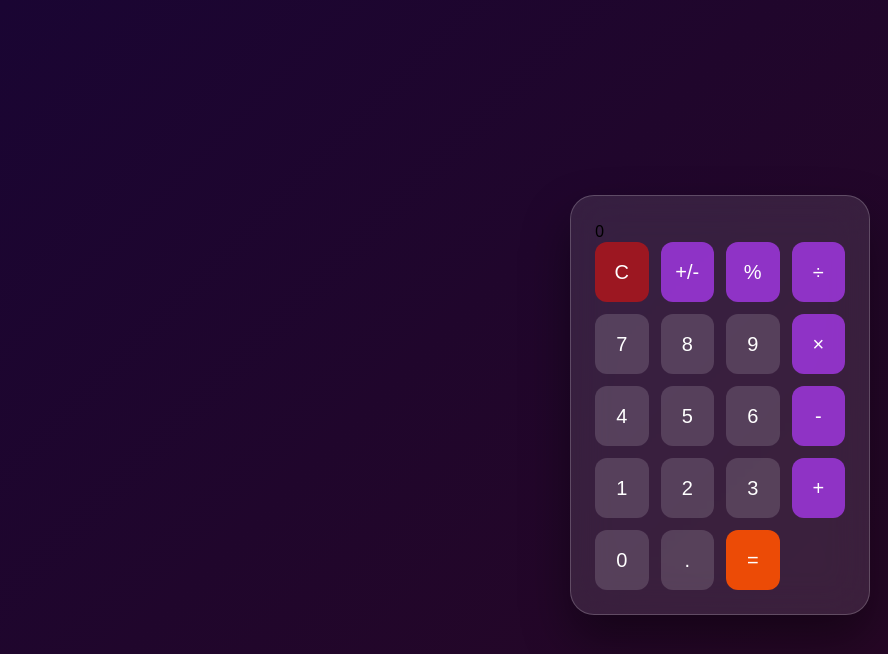
Test: Calculator › muestra un número al presionar un botón
Click the button "5".
click(687, 416)  # box [660,386,714,446]
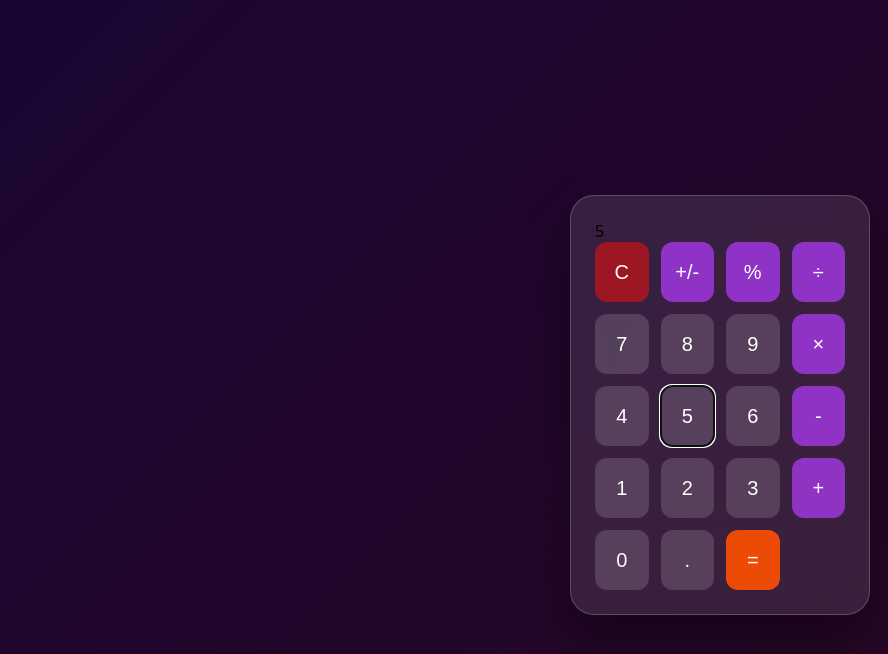
Result: the message reads "5" at [595,220,604,242]
